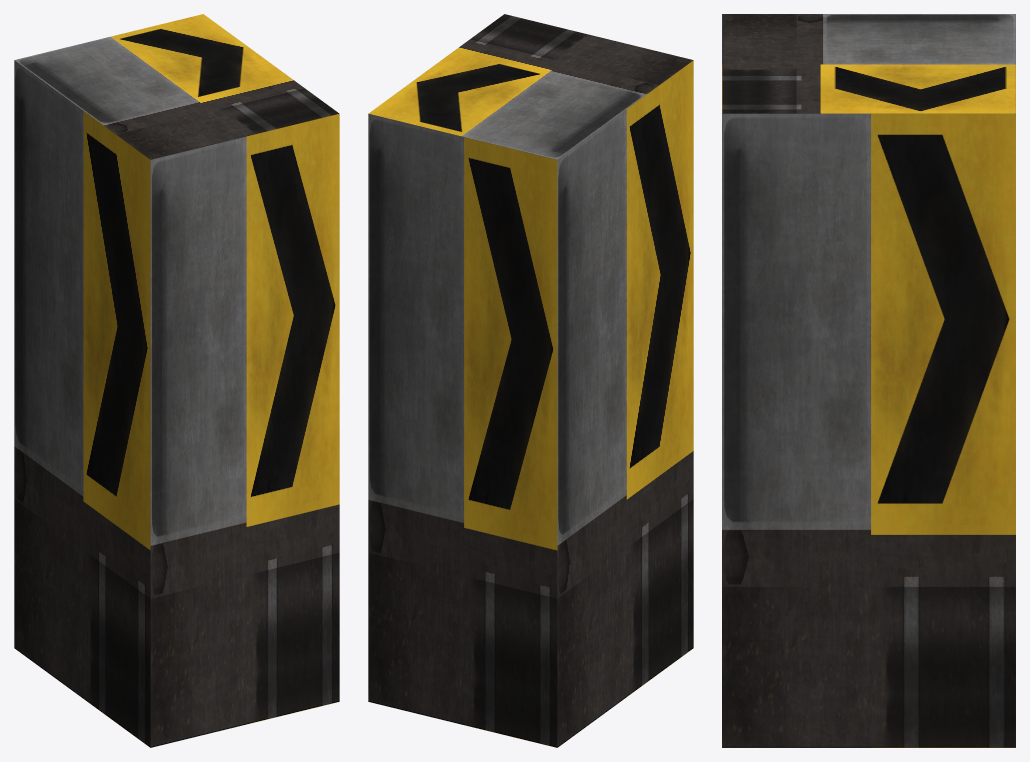
File: turnsign.DAE
3 views of the same model, side by side, from view 1: azimuth 30°, elevation 25°; view 2: azimuth 150°, elevation 25°; view 3: azimuth 270°, elevation 25° (orthographic). The views are drawn at different scales.
Parts seen in each view (by area): view 1: bounds; view 2: bounds; view 3: bounds.
Boxes of the visible parts, x1=… form: bounds: x1=14, y1=14, x2=339, y2=747; bounds: x1=368, y1=14, x2=693, y2=747; bounds: x1=722, y1=14, x2=1015, y2=747.
Bounding box in the file's own units: 1.29 × 1.61 × 3.85.
